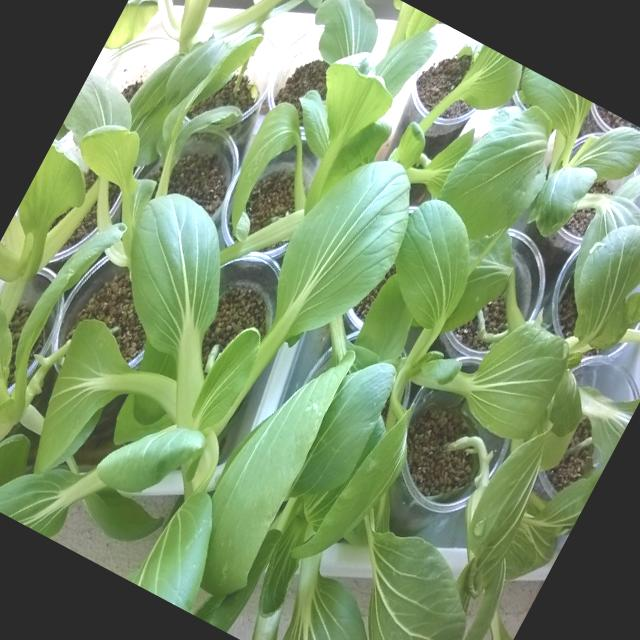pakcoy_sehat: (0, 99, 423, 622)
